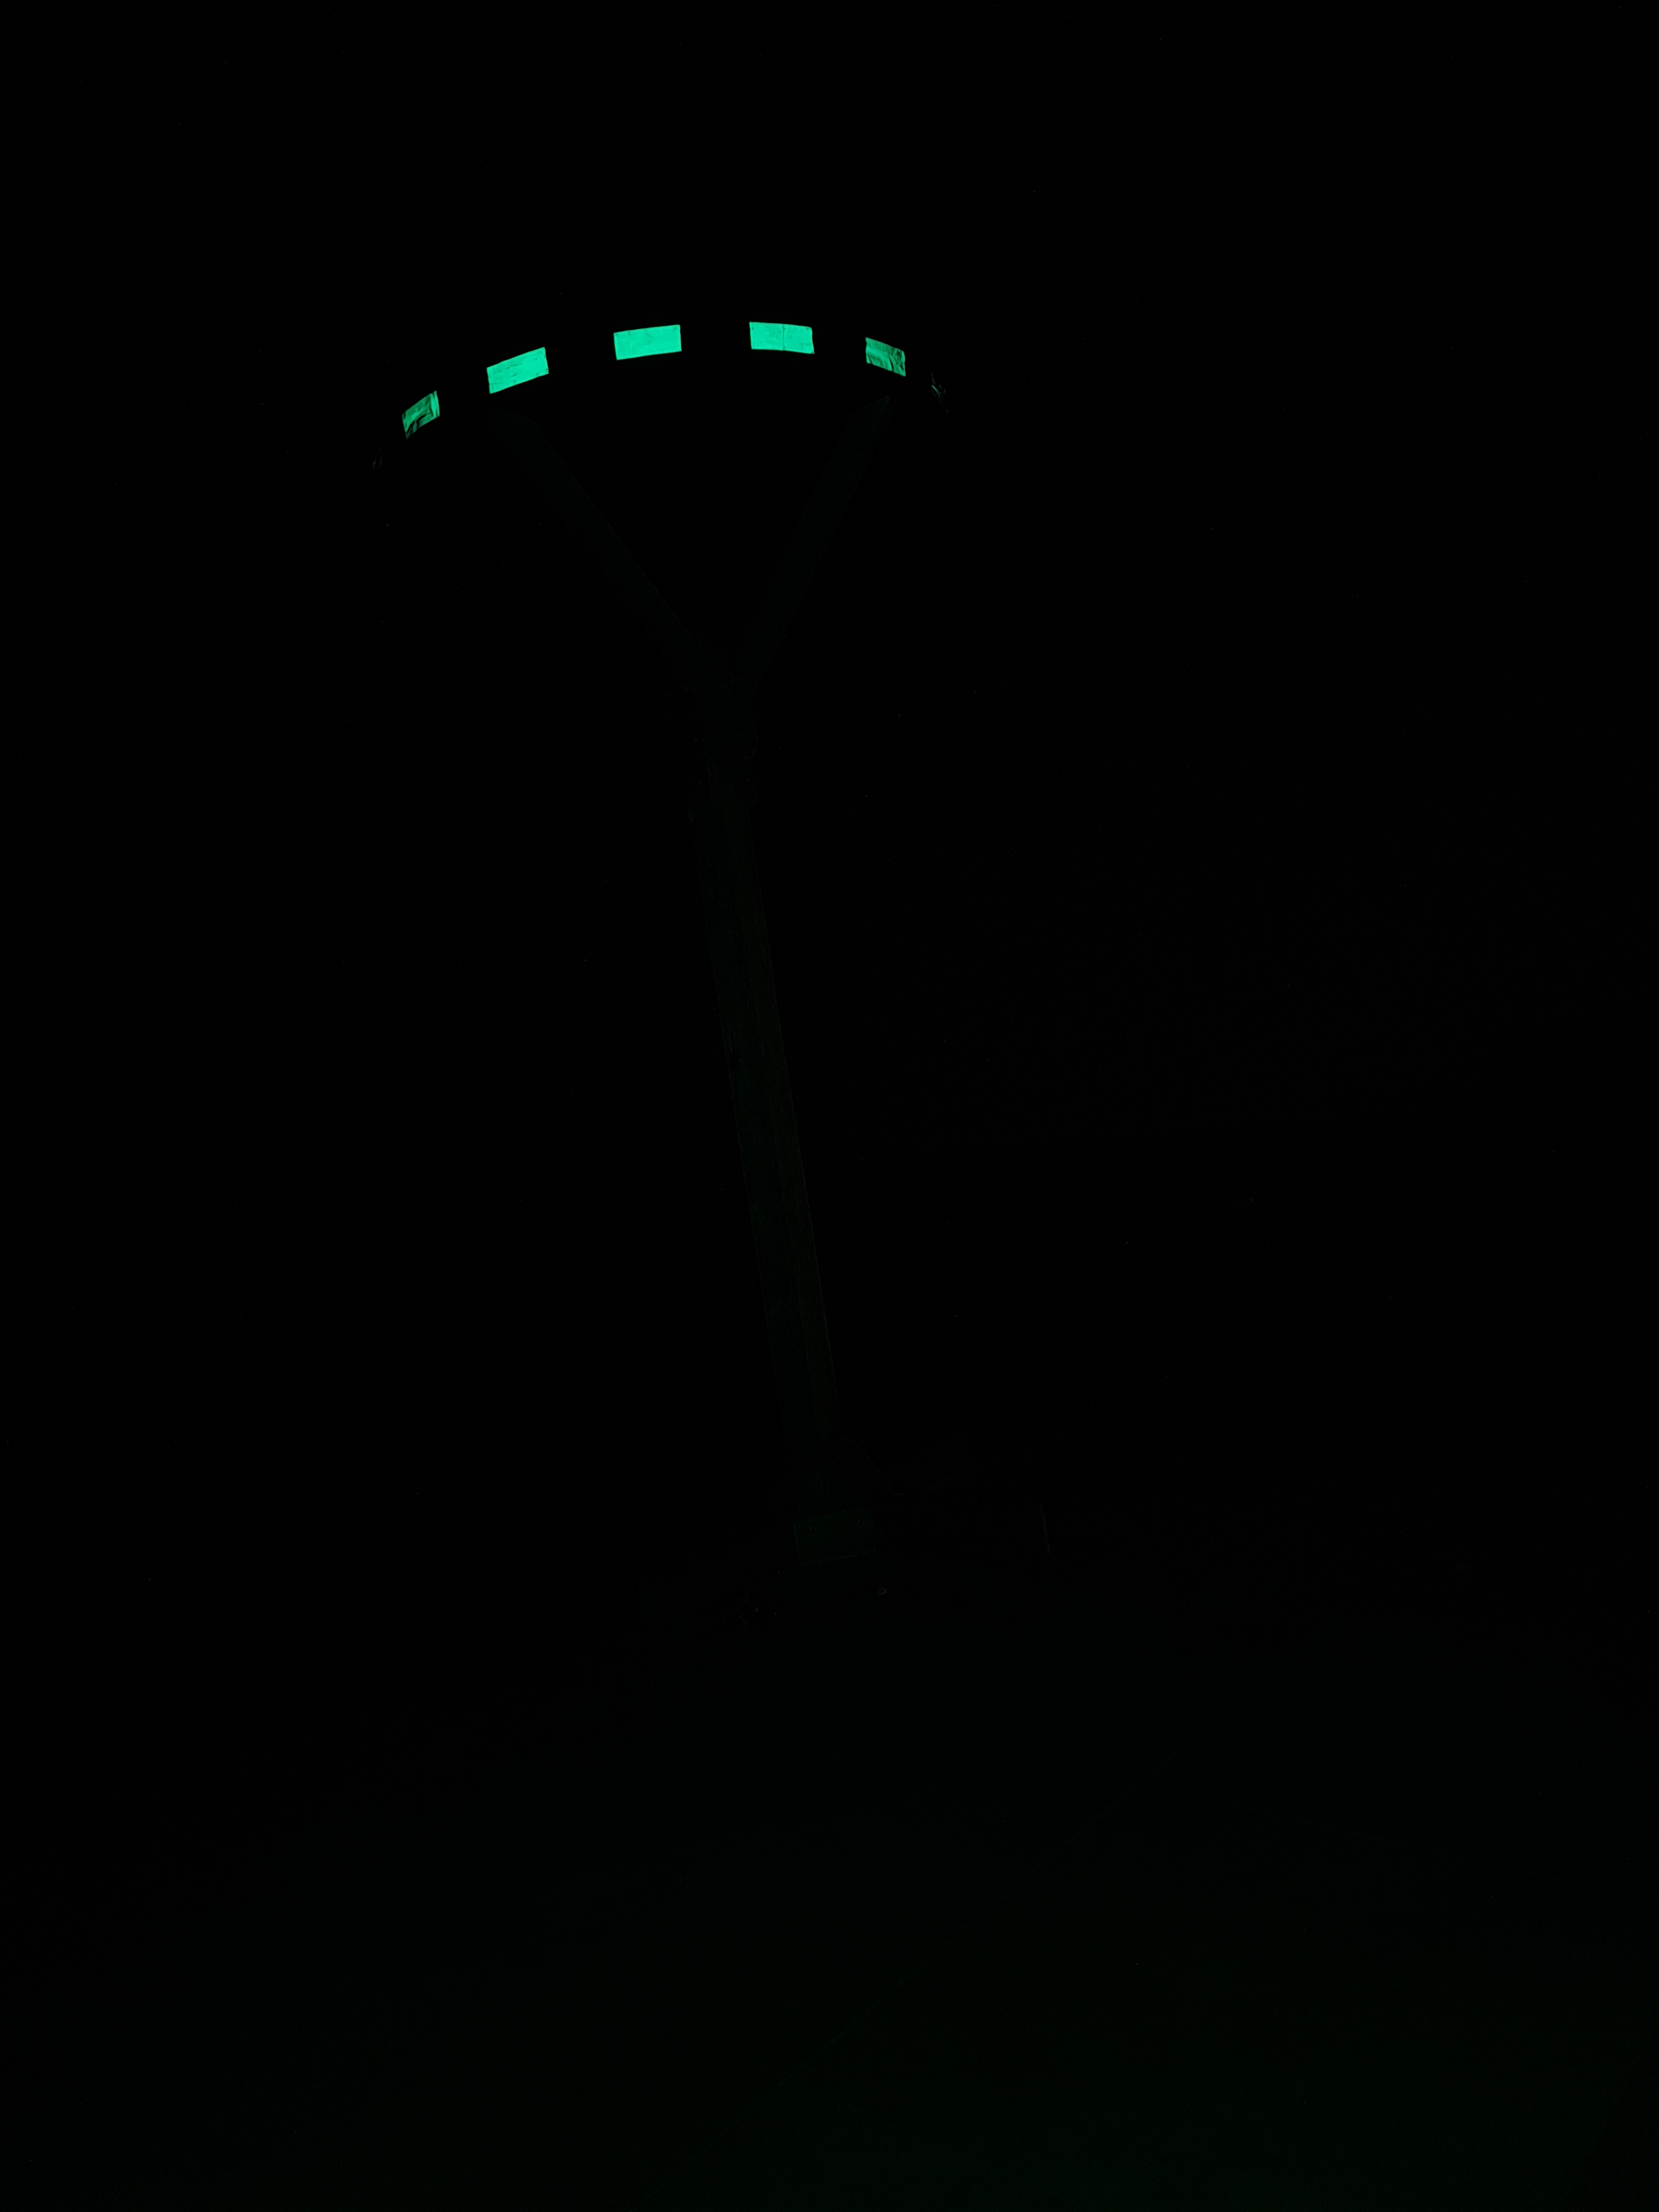hoop: (397, 317, 911, 437)
